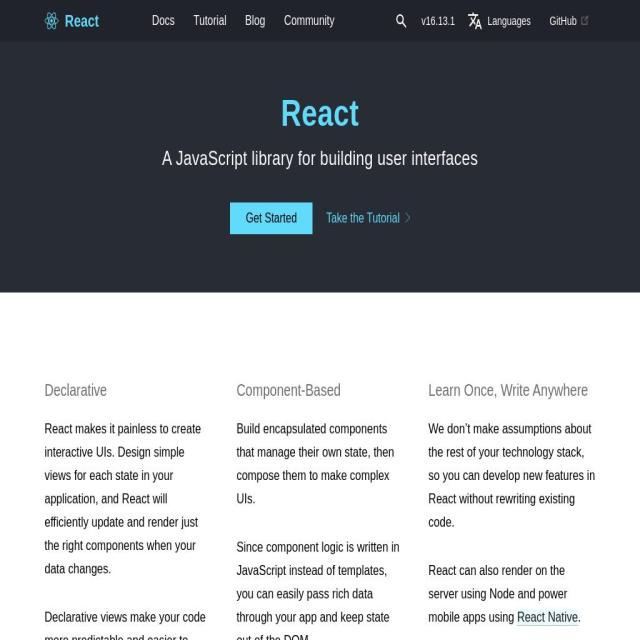button: (44, 0, 137, 42), (230, 203, 313, 234), (460, 7, 538, 35), (326, 211, 410, 226), (543, 10, 596, 32), (517, 609, 579, 626), (415, 10, 461, 32)
field: (394, 10, 407, 32)
heading: (44, 92, 596, 134), (44, 342, 212, 401), (236, 342, 404, 401), (428, 342, 596, 401)
image: (467, 11, 482, 31), (44, 13, 59, 29), (580, 14, 590, 27), (406, 212, 410, 222)
link: (284, 0, 335, 42), (193, 0, 227, 42), (152, 0, 175, 42), (245, 0, 266, 42)
text: (44, 417, 212, 581), (428, 418, 596, 534), (44, 134, 596, 169), (236, 536, 404, 640), (236, 417, 404, 511), (428, 563, 568, 625), (44, 606, 212, 640), (326, 211, 400, 225), (487, 14, 531, 28), (64, 13, 100, 29), (550, 14, 578, 28), (578, 609, 580, 625)
